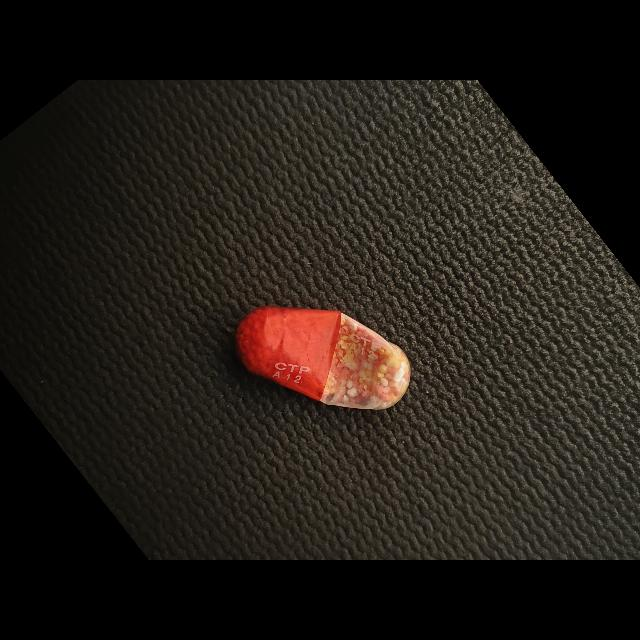Defective Capsule: (235, 306, 411, 410)
